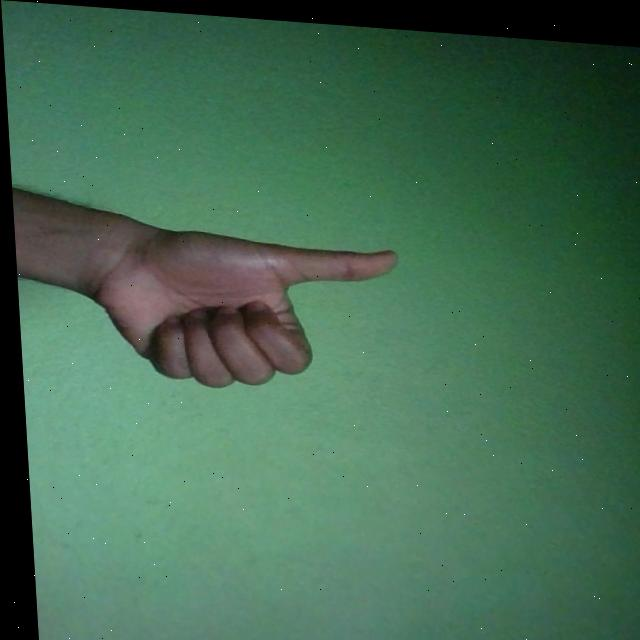Good Job: (80, 221, 402, 397)
